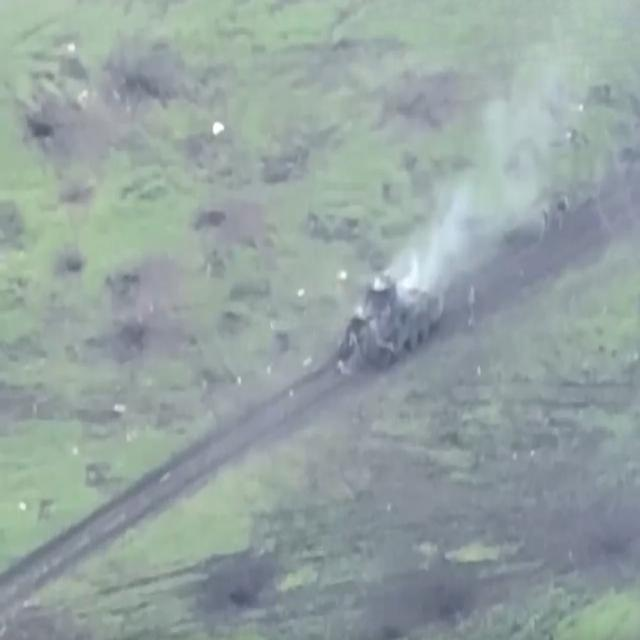APC: (348, 271, 446, 377)
